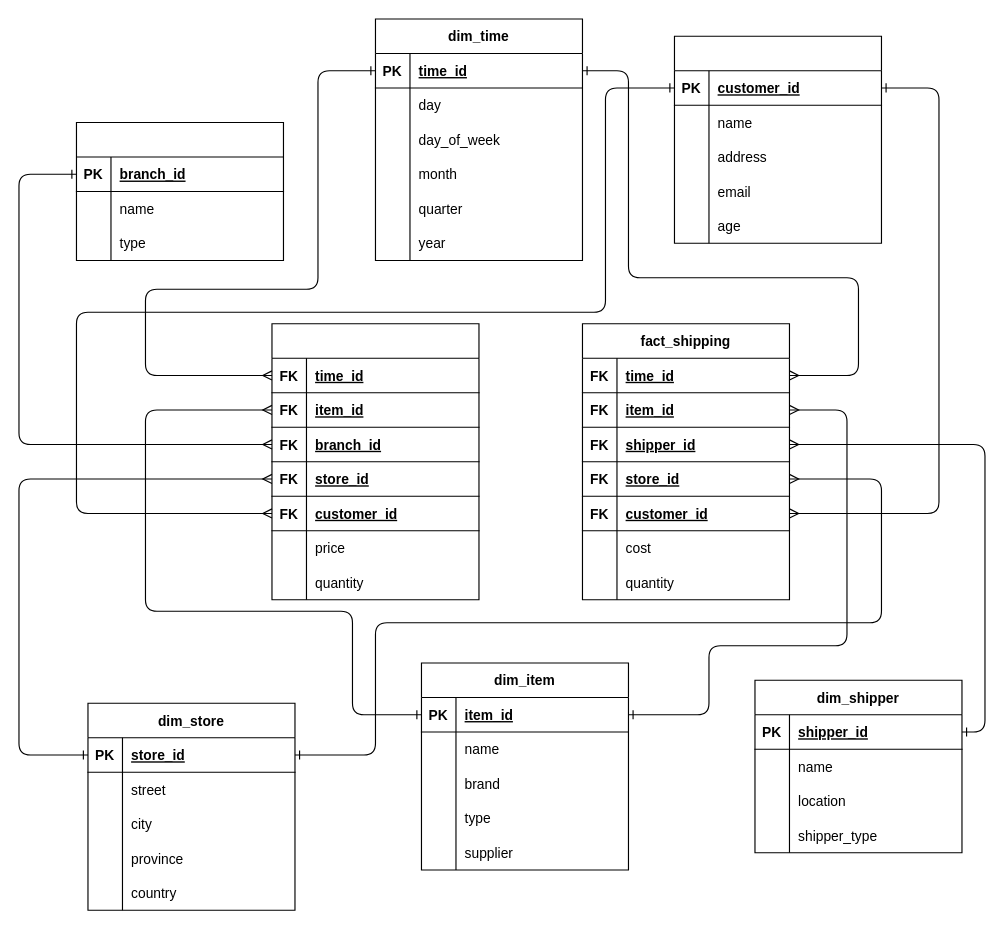
The diagram is 1004 pixels wide and 929 high, and some of its shapes have lost their labels. The box of each missing label's shape, as (x1, y1, x2, y2) in pixels:
dim_branch: (75, 121, 283, 260)
dim_customer: (673, 35, 881, 243)
fact_sale: (271, 323, 479, 600)
